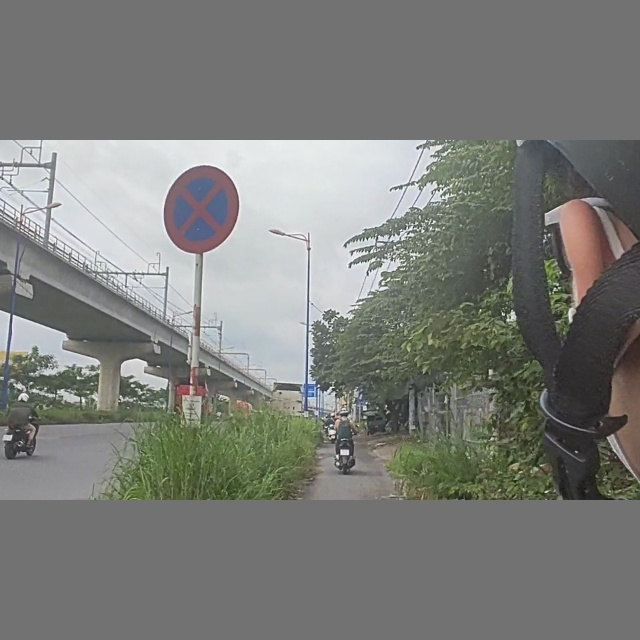P.130: (161, 165, 245, 258)
